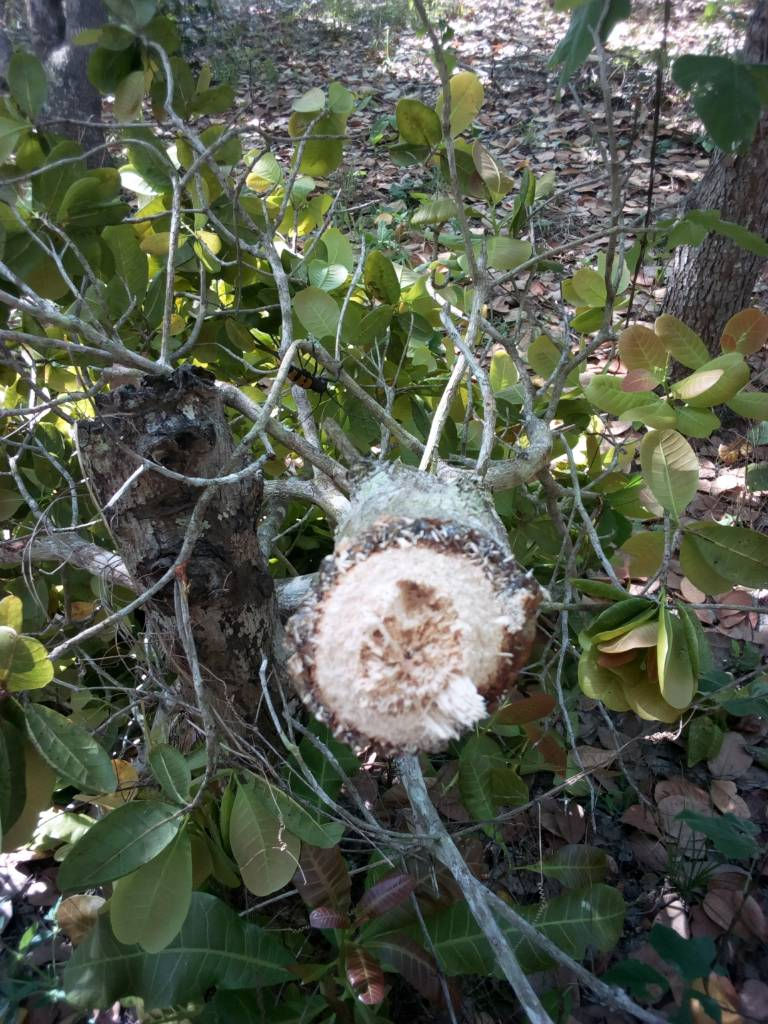Analepse trifasciata: (274, 505, 525, 769)
